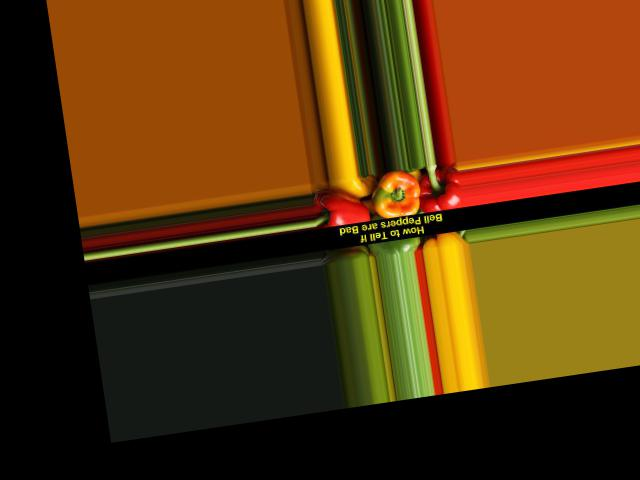bell_pepper: (412, 161, 462, 216)
